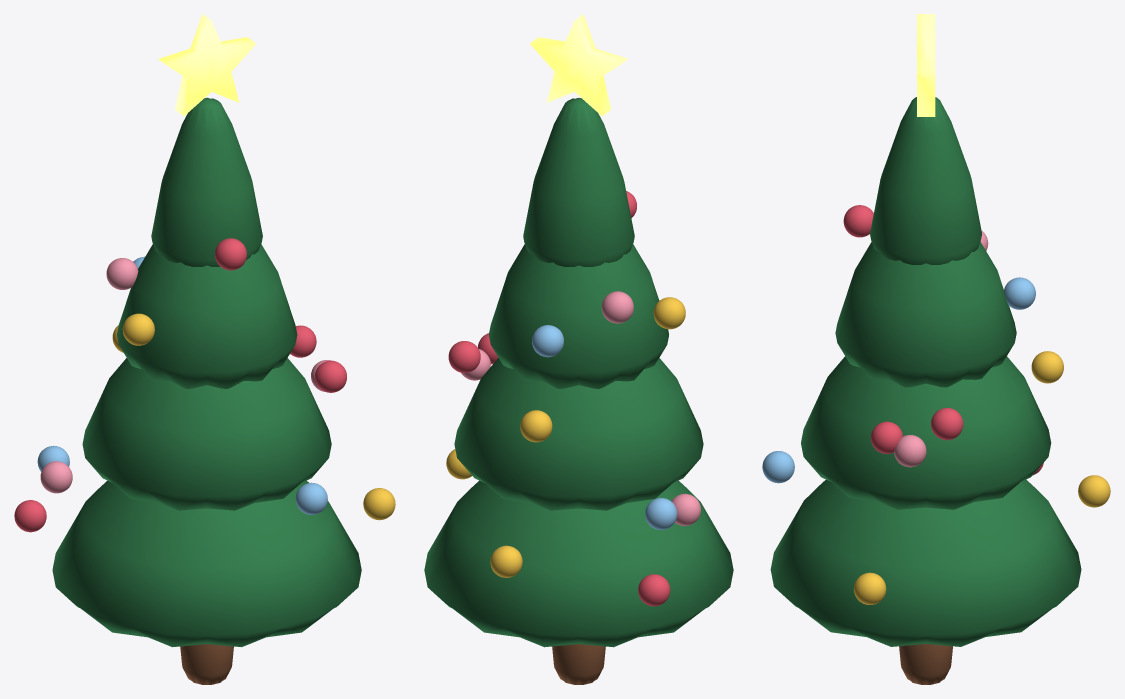
The model's file is deco_arbol_navidad.glb.
3 views of the same model, side by side, from view 1: azimuth 30°, elevation 25°; view 2: azimuth 150°, elevation 25°; view 3: azimuth 270°, elevation 25° (orthographic).
Parts seen in each view (by area): view 1: capa pino 0.001, capa pino 1.001, capa pino 2.001, capa pino 3.001, estrella árbol.001, tronco.001, bola 7.001, bola 1.001, bola 5.001, bola 8.001, bola 0.001, bola 12.001 (+3 smaller); view 2: capa pino 0.001, capa pino 1.001, capa pino 2.001, capa pino 3.001, estrella árbol.001, tronco.001, bola 13.001, bola 3.001, bola 5.001, bola 8.001, bola 9.001, bola 4.001 (+3 smaller); view 3: capa pino 0.001, capa pino 1.001, capa pino 2.001, capa pino 3.001, estrella árbol.001, tronco.001, bola 9.001, bola 13.001, bola 1.001, bola 4.001, bola 6.001, bola 10.001 (+3 smaller).
Boxes of the visible parts, x1,y1,x2,y2 form: capa pino 0.001: (52,480,361,647); capa pino 1.001: (82,358,331,510); capa pino 2.001: (117,244,297,388); capa pino 3.001: (151,97,262,266); estrella árbol.001: (158,14,255,115); tronco.001: (180,644,233,684); bola 7.001: (40,461,72,493); bola 1.001: (363,488,395,520); bola 5.001: (122,313,154,345); bola 8.001: (14,500,46,532); bola 0.001: (315,360,346,392); bola 12.001: (215,238,246,270); capa pino 0.001: (424,480,733,647); capa pino 1.001: (454,358,703,510); capa pino 2.001: (489,244,668,388); capa pino 3.001: (523,98,634,266); estrella árbol.001: (530,14,627,116); tronco.001: (552,644,605,684); bola 13.001: (520,410,552,442); bola 3.001: (601,291,633,323); bola 5.001: (653,297,685,329); bola 8.001: (638,574,670,606); bola 9.001: (490,545,522,577); bola 4.001: (448,341,480,372); capa pino 0.001: (770,479,1081,646); capa pino 1.001: (801,356,1051,509); capa pino 2.001: (835,242,1016,387); capa pino 3.001: (870,97,981,264); estrella árbol.001: (917,14,935,116); tronco.001: (899,644,952,684); bola 9.001: (1078,475,1110,507); bola 13.001: (1031,351,1063,383); bola 1.001: (853,572,886,604); bola 4.001: (931,408,963,440); bola 6.001: (762,451,794,483); bola 10.001: (1004,277,1035,309).
Size of the model in its own units: 0.5749 by 1.21 by 0.5737.
